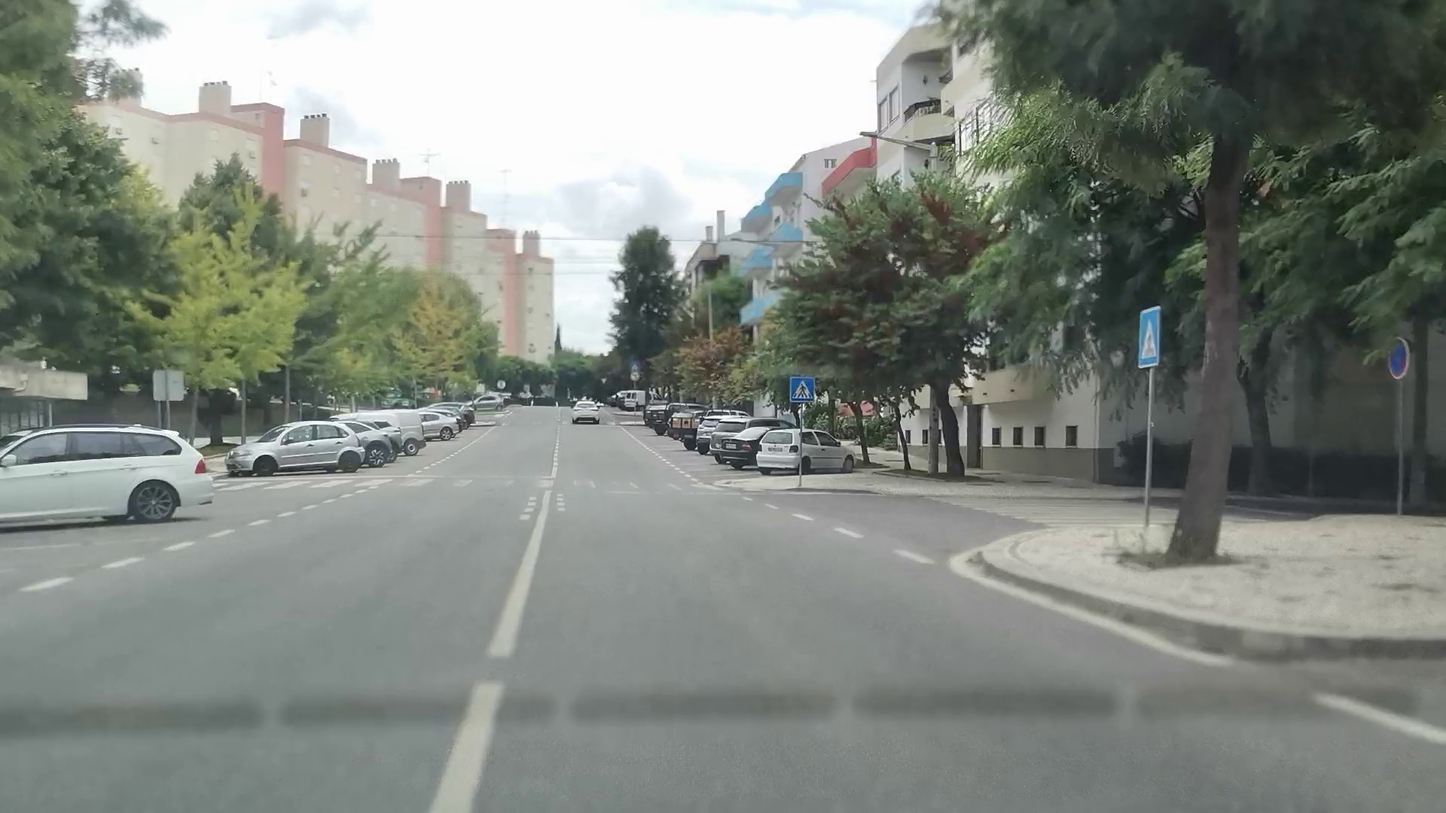Stairs: (928, 483, 1264, 526), (215, 474, 722, 493)
